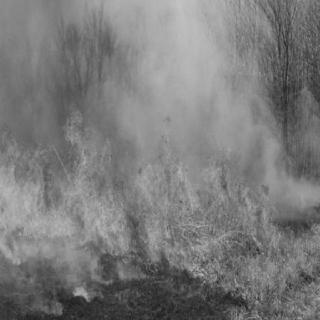Fire: (306, 212, 318, 244)
